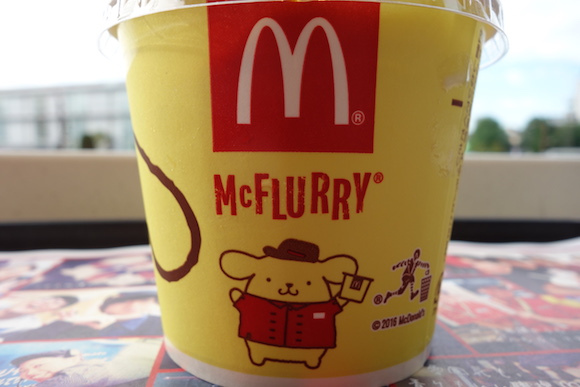mcdonalds: (234, 8, 353, 134)
